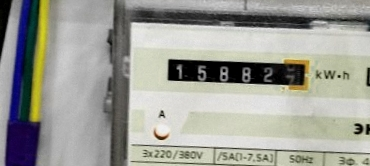1: (173, 62, 184, 80)
2: (261, 65, 273, 82)
5: (194, 63, 207, 81)
7: (283, 72, 295, 86)
8: (217, 64, 229, 81), (240, 65, 251, 82)
screen: (159, 47, 316, 95)
